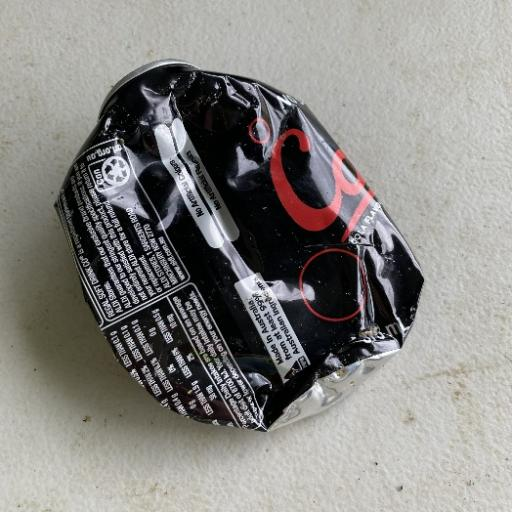Metal: (52, 58, 426, 434)
